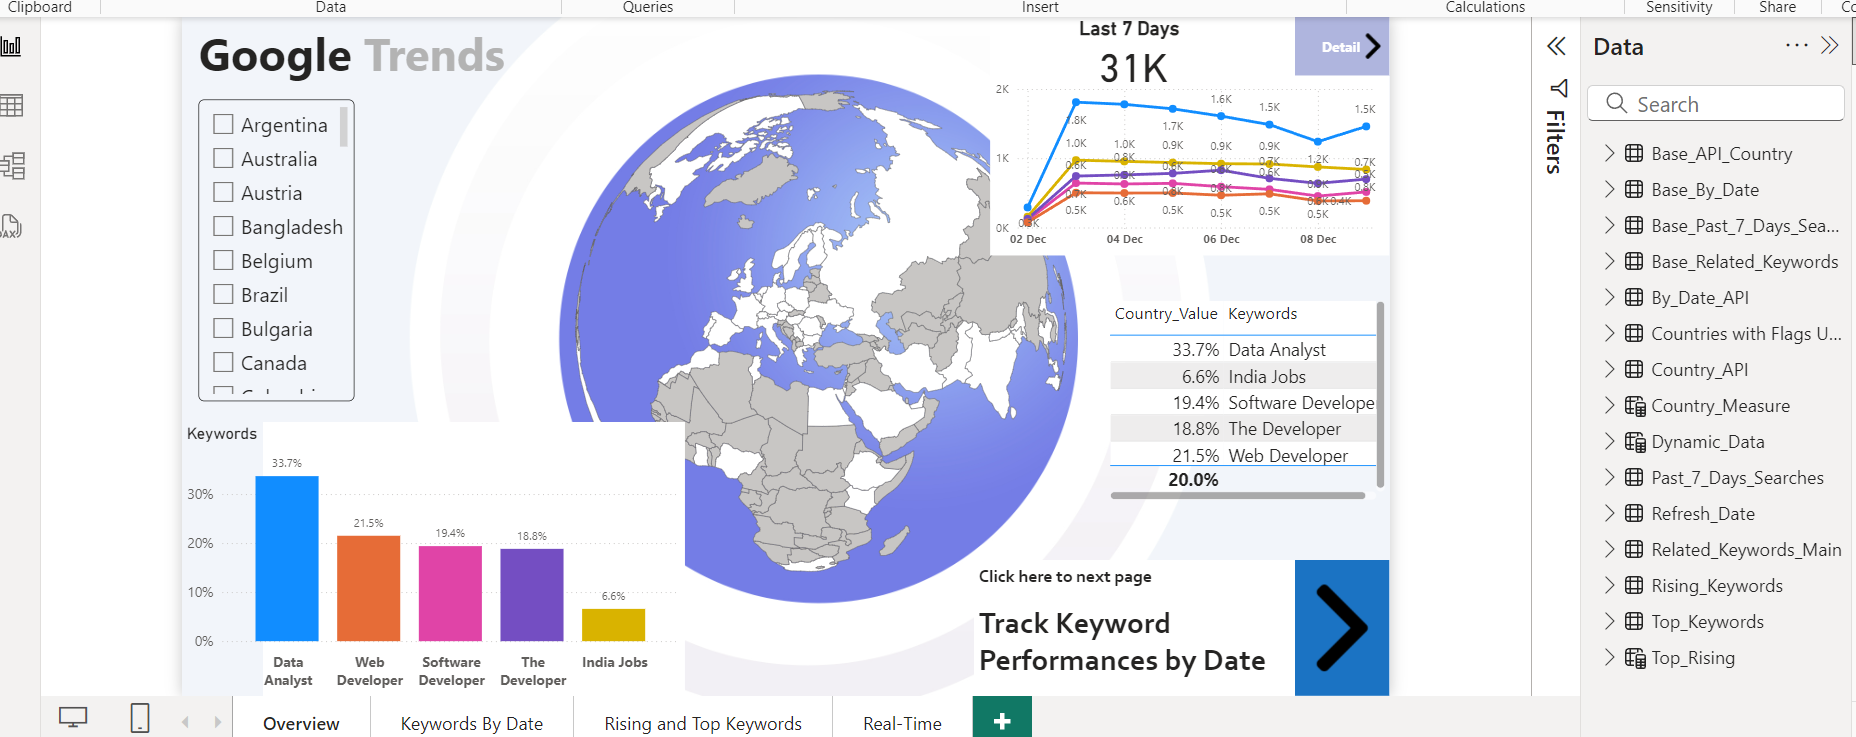

The dashboard page shown, as its layout file describes it:
{"tool":"powerbi","page":{"name":"Overview","canvas":[1280,720],"ordinal":0},"visuals":[{"type":"slicer","fields":{"Values":["Country_API.Country"]},"box":[17.5,87.5,165.4,319.7],"z":0},{"type":"tableEx","fields":{"Values":["Country_Measure.Country_Value","Country_API.Keywords"]},"box":[978.2,295.9,302.2,221.1],"z":1000},{"type":"shapeMap","fields":{"Category":["Country_API.Country"]},"box":[364.1,44.1,626.2,576.6],"z":2000},{"type":"shape","box":[86.6,430.4,436,290.7],"z":4000},{"type":"shape","box":[86.6,429.3,436,290.7],"z":5000},{"type":"shape","box":[857.8,0,422.9,252.5],"z":6000},{"type":"shape","box":[96.6,429.3,436,290.7],"z":7000},{"type":"shape","box":[839.8,575.2,440.9,144.3],"z":8000},{"type":"actionButton","box":[1180.5,575.2,100.2,144.3],"z":9000},{"type":"clusteredColumnChart","title":"Keywords","fields":{"Category":["Country_API.Keywords"],"Y":["Country_Measure.Country_Value"]},"box":[0,431.1,532.9,289.5],"z":10000},{"type":"lineChart","title":"Keywords","fields":{"Category":["Past_7_Days_Searches.Column1.date.Variation.Date Hierarchy.Year","Past_7_Days_Searches.Column1.date.Variation.Date Hierarchy.Quarter","Past_7_Days_Searches.Column1.date.Variation.Date Hierarchy.Month","Past_7_Days_Searches.Column1.date.Variation.Date Hierarchy.Day"],"Series":["Past_7_Days_Searches.Keywords"],"Y":["Past_7_Days_Searches.Last_7_Day_Value"]},"box":[857.3,62,423.1,190.9],"z":11000},{"type":"actionButton","box":[1180.5,0,100.2,62.1],"z":12000},{"type":"card","title":"Last 7 Days","fields":{"Values":["Past_7_Days_Searches.Last_7_Day_Value"]},"box":[946,0,124.3,76.2],"z":13000},{"type":"textbox","box":[839.8,575.2,340.7,144.3],"z":14000},{"type":"textbox","box":[12.7,0,367.4,87.5],"z":14001}]}

Visuals, with their boxes on the page's 1280x720 design canvas (x1, y1, x2, y2). These are canvas units, not pixel positions in the 1856x737 screenshot, which may show the page scaled, cropped or inside an application window:
slicer - Country_API.Country: box(18, 88, 183, 407)
tableEx - Country_Measure.Country_Value x Country_API.Keywords: box(978, 296, 1280, 517)
shapeMap - Country_API.Country: box(364, 44, 990, 621)
shape: box(87, 430, 523, 721)
shape: box(87, 429, 523, 720)
shape: box(858, 0, 1281, 252)
shape: box(97, 429, 533, 720)
shape: box(840, 575, 1281, 720)
actionButton: box(1180, 575, 1281, 720)
"Keywords" clusteredColumnChart: box(0, 431, 533, 721)
"Keywords" lineChart: box(857, 62, 1280, 253)
actionButton: box(1180, 0, 1281, 62)
"Last 7 Days" card: box(946, 0, 1070, 76)
textbox: box(840, 575, 1180, 720)
textbox: box(13, 0, 380, 88)
